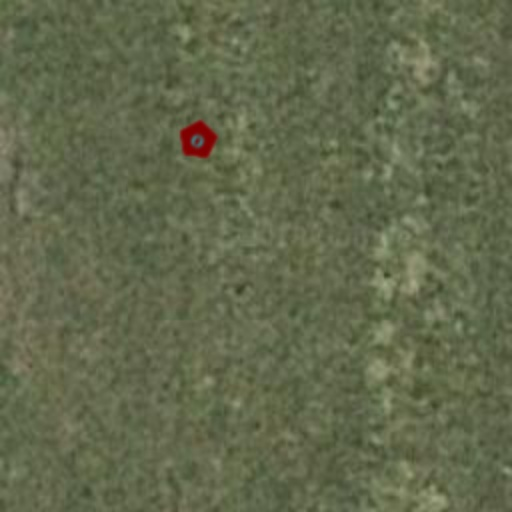pentagon: (168, 110, 228, 170)
